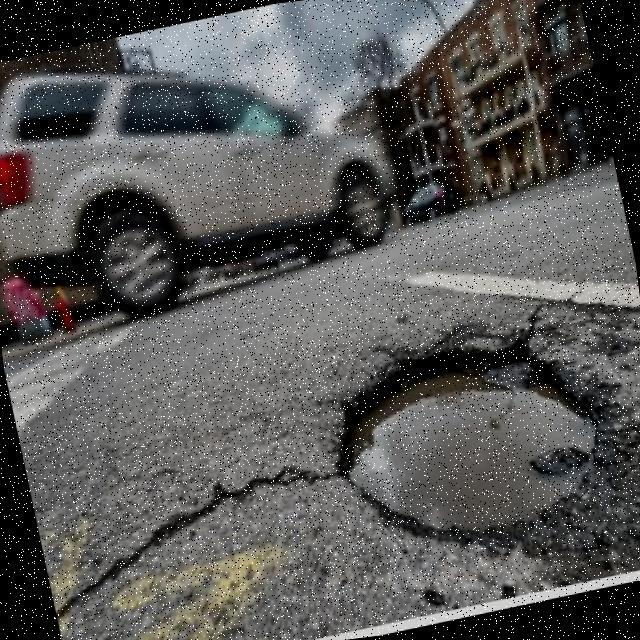Pothole: (338, 341, 596, 536)
